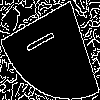I: (25, 24, 61, 55)
